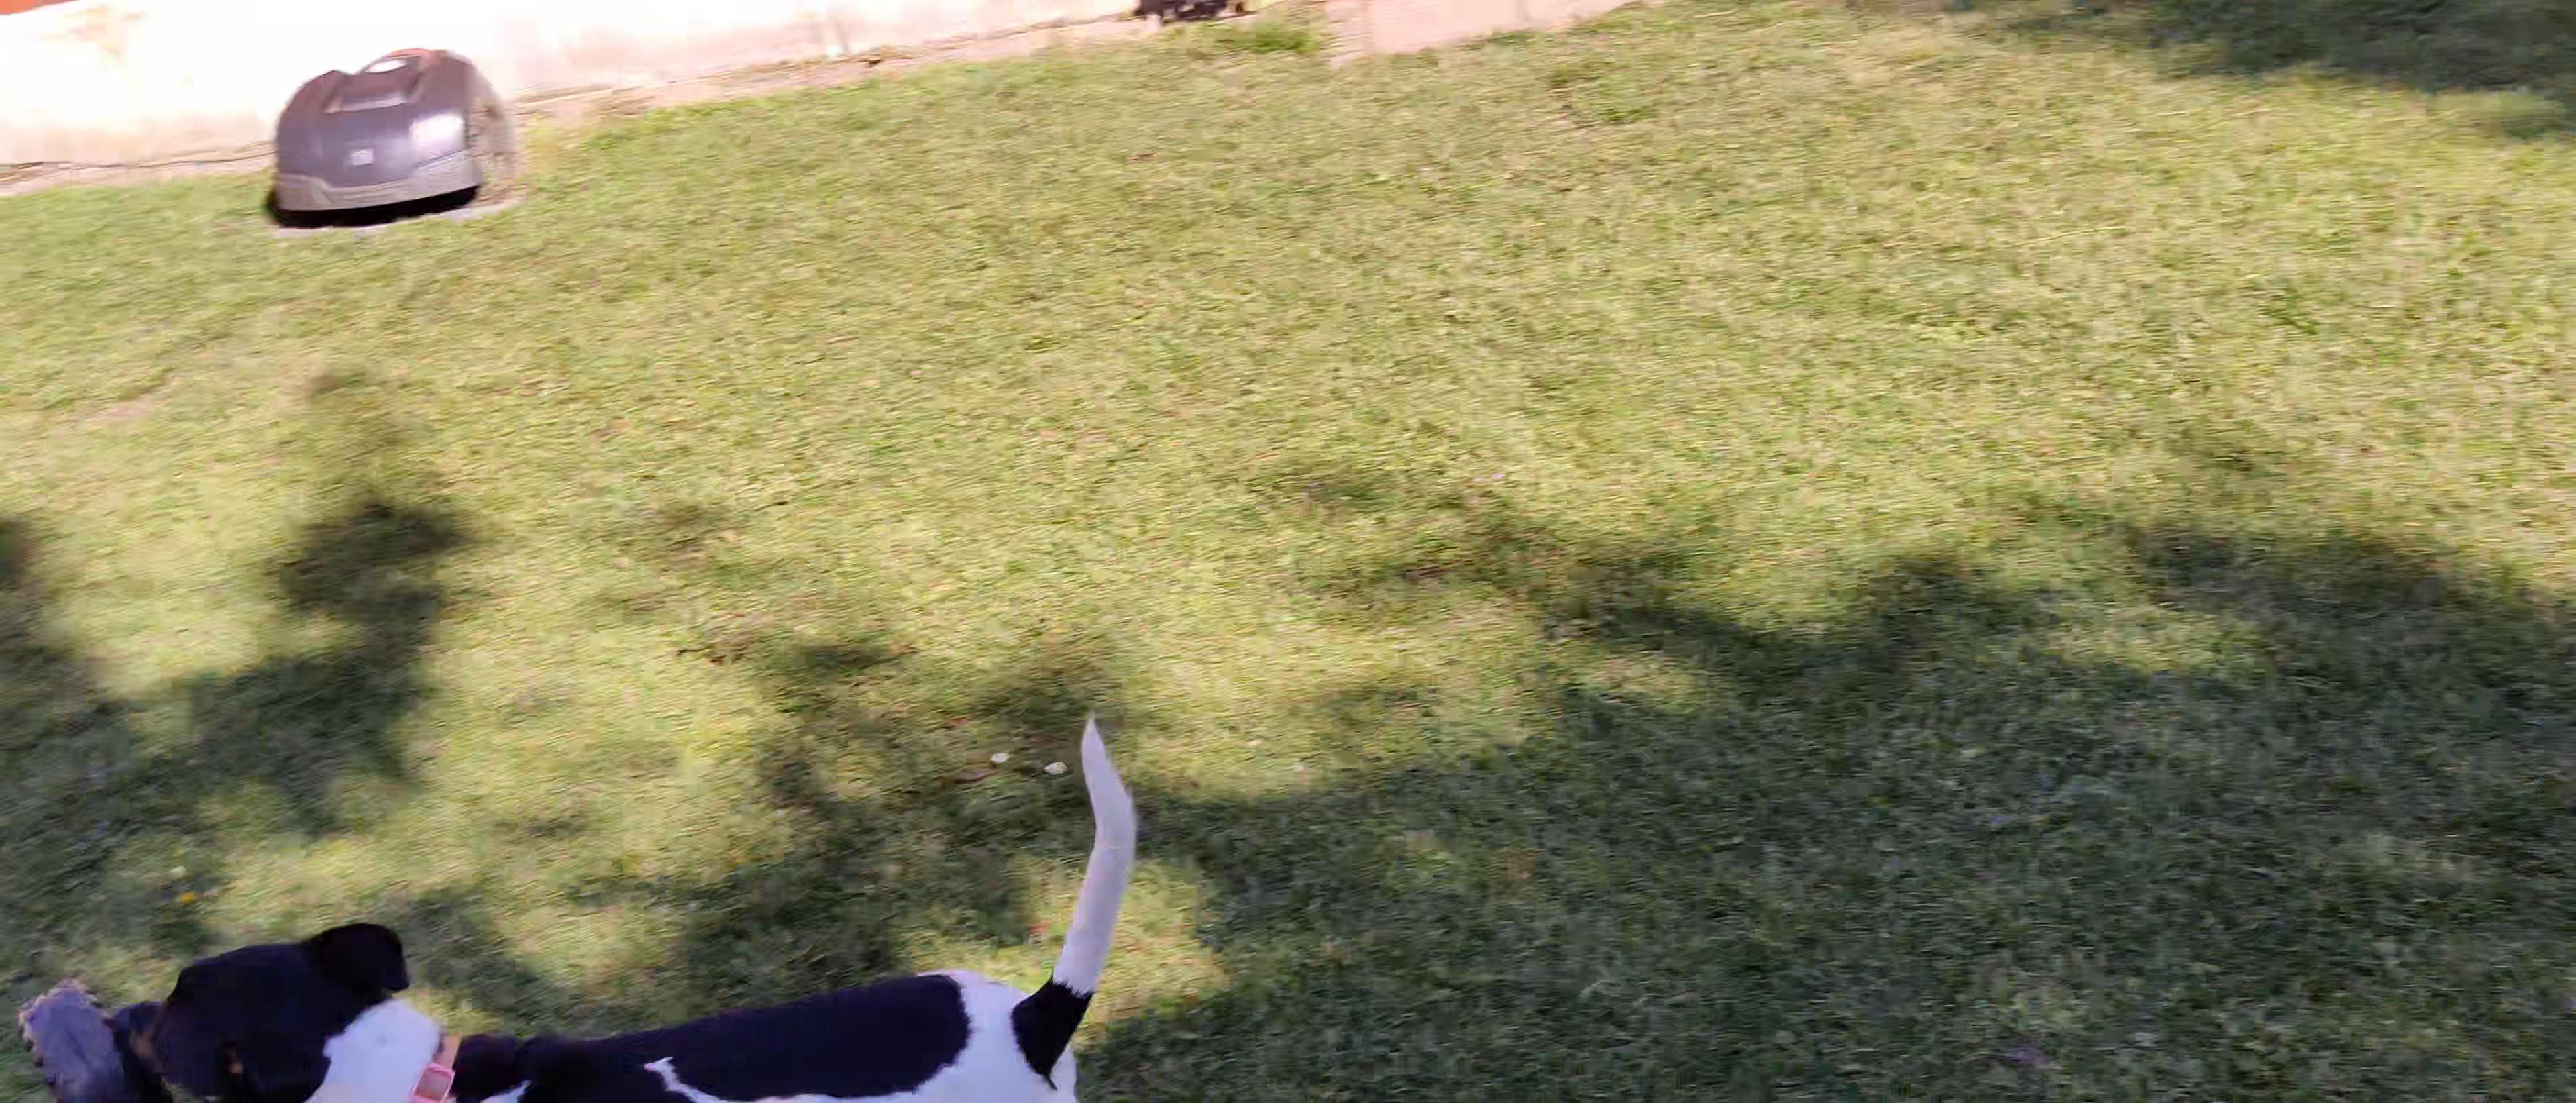Dog: (84, 700, 1196, 1103)
